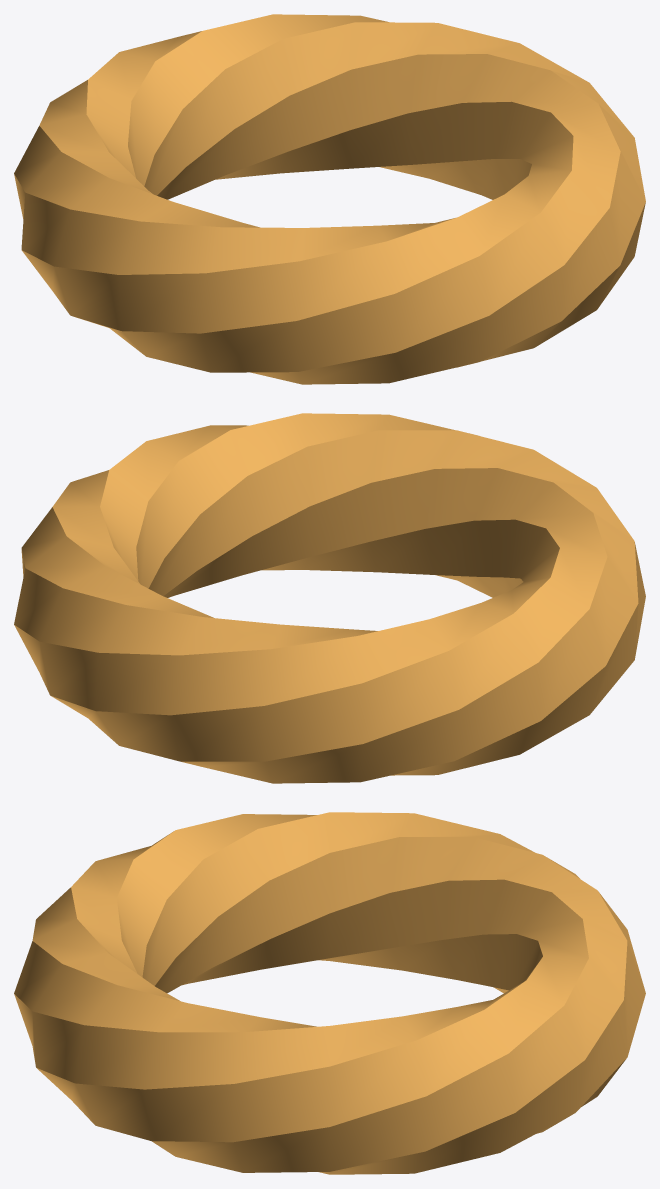
Rendered from TwistedTorus_01.fbx.
3 views of the same model, one above another, from view 1: azimuth 30°, elevation 25°; view 2: azimuth 150°, elevation 25°; view 3: azimuth 270°, elevation 25° (orthographic).
Parts seen in each view (by area): view 1: TwistedTorus_01; view 2: TwistedTorus_01; view 3: TwistedTorus_01.
Part boxes in pixels (bbox=[...]): TwistedTorus_01: bbox=[14, 14, 645, 384]; TwistedTorus_01: bbox=[14, 413, 645, 783]; TwistedTorus_01: bbox=[14, 812, 645, 1174].
Bounding box in the file's own units: 375 × 97.5 × 375.
